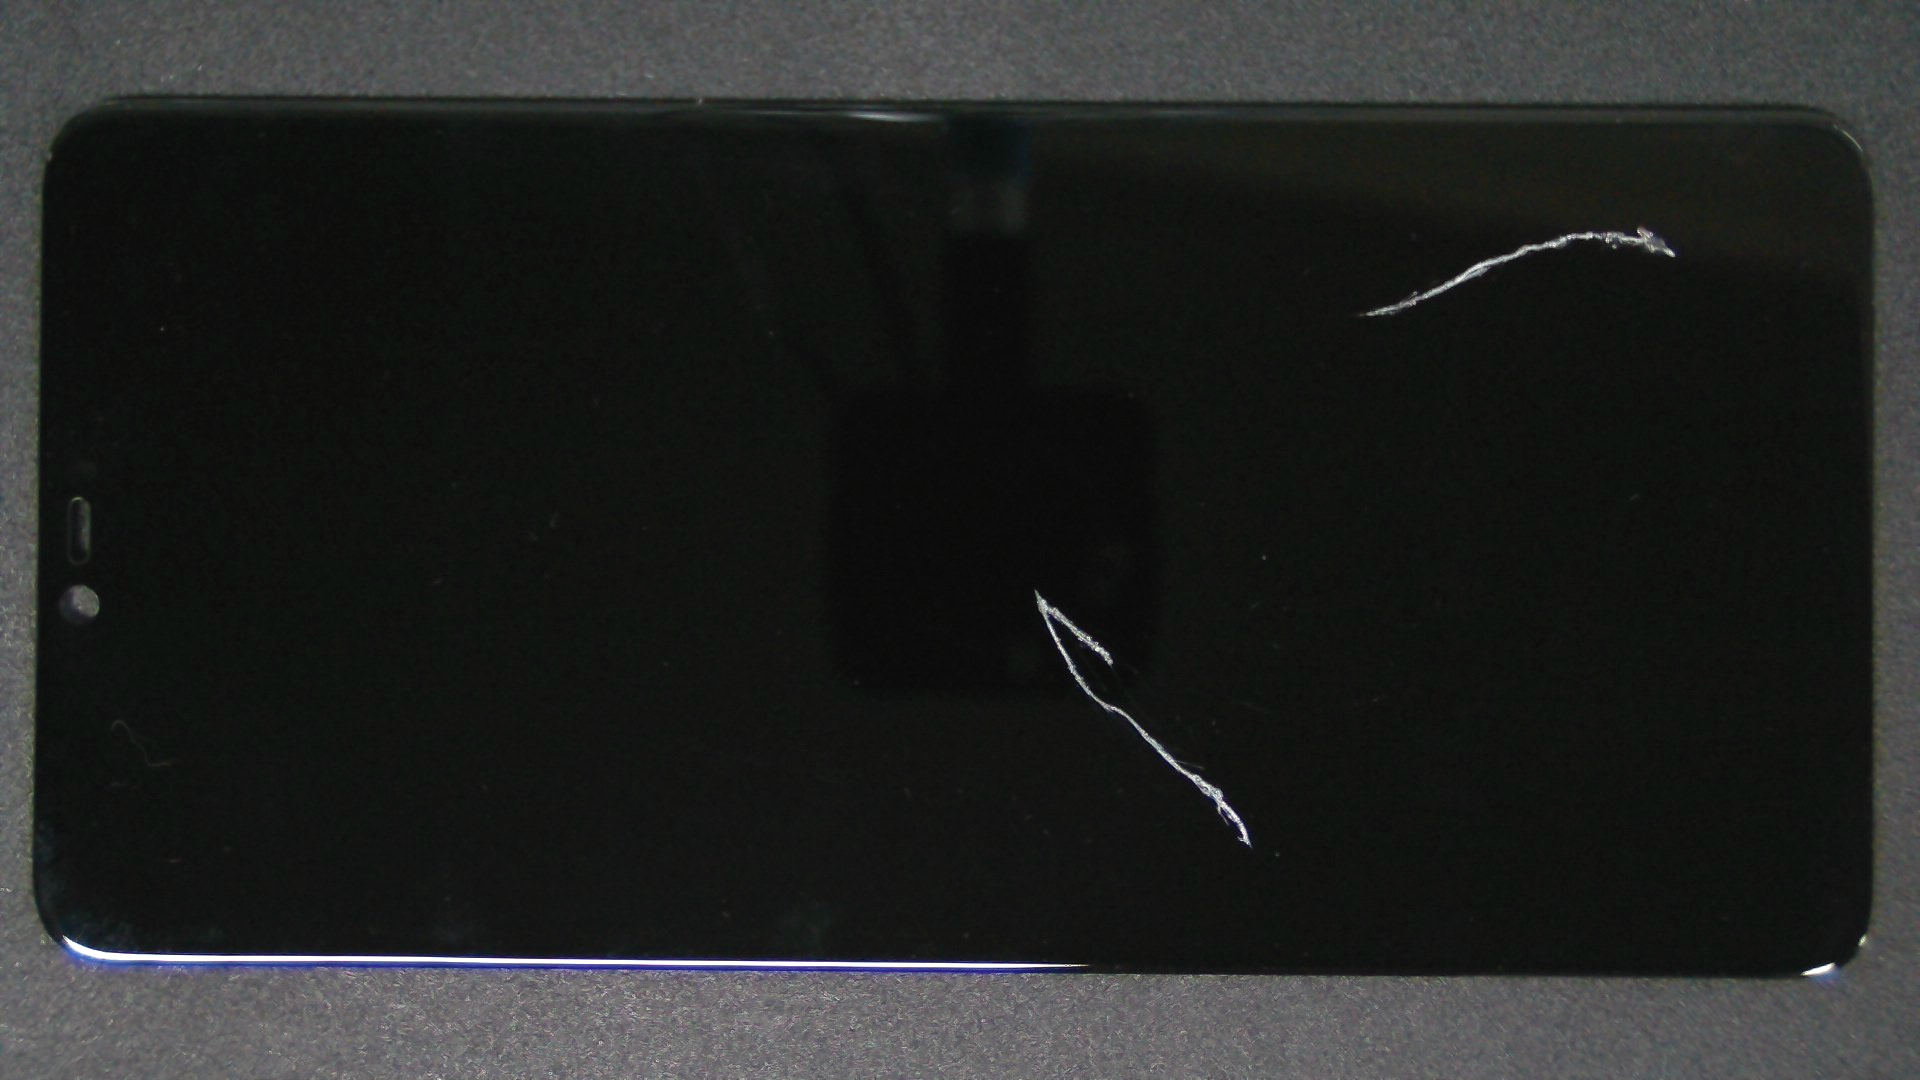oil: (517, 294, 1549, 882), (819, 112, 1920, 336)
